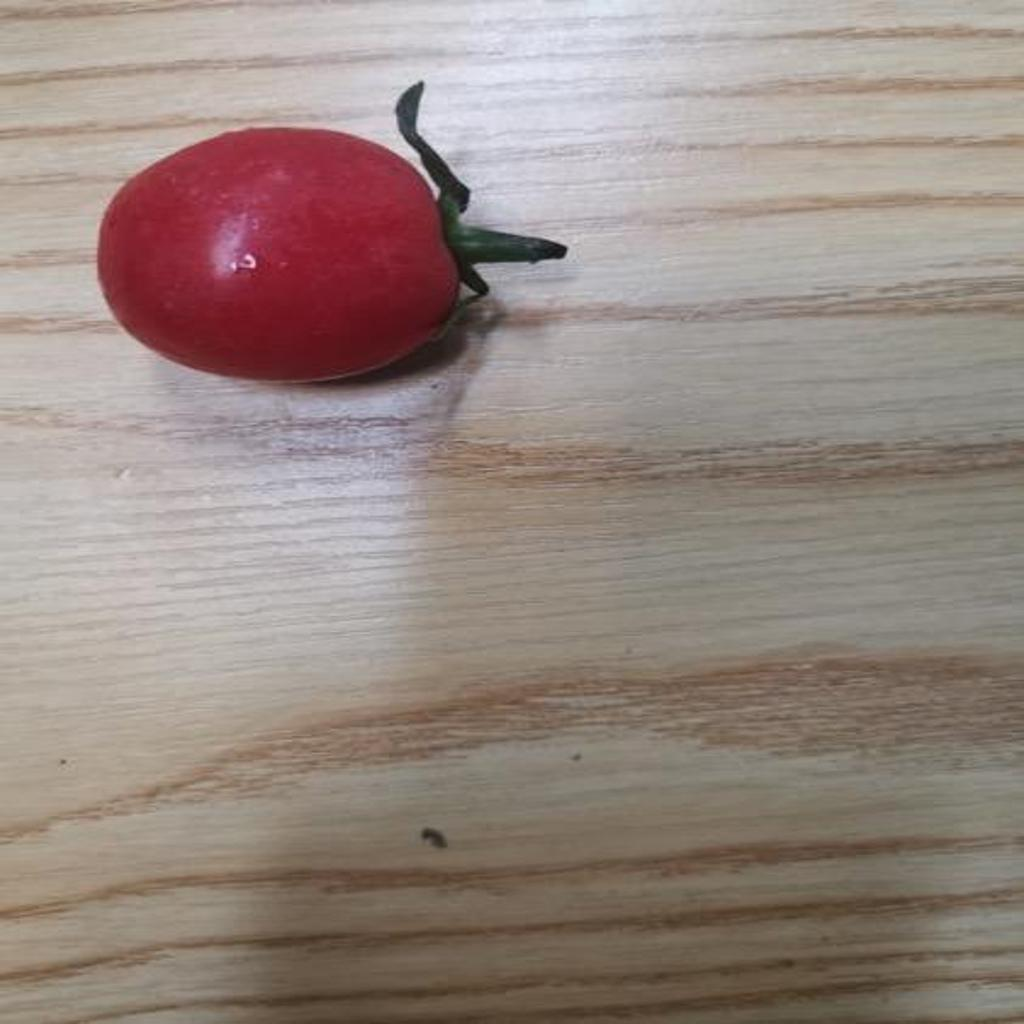tomato: (89, 107, 549, 392)
